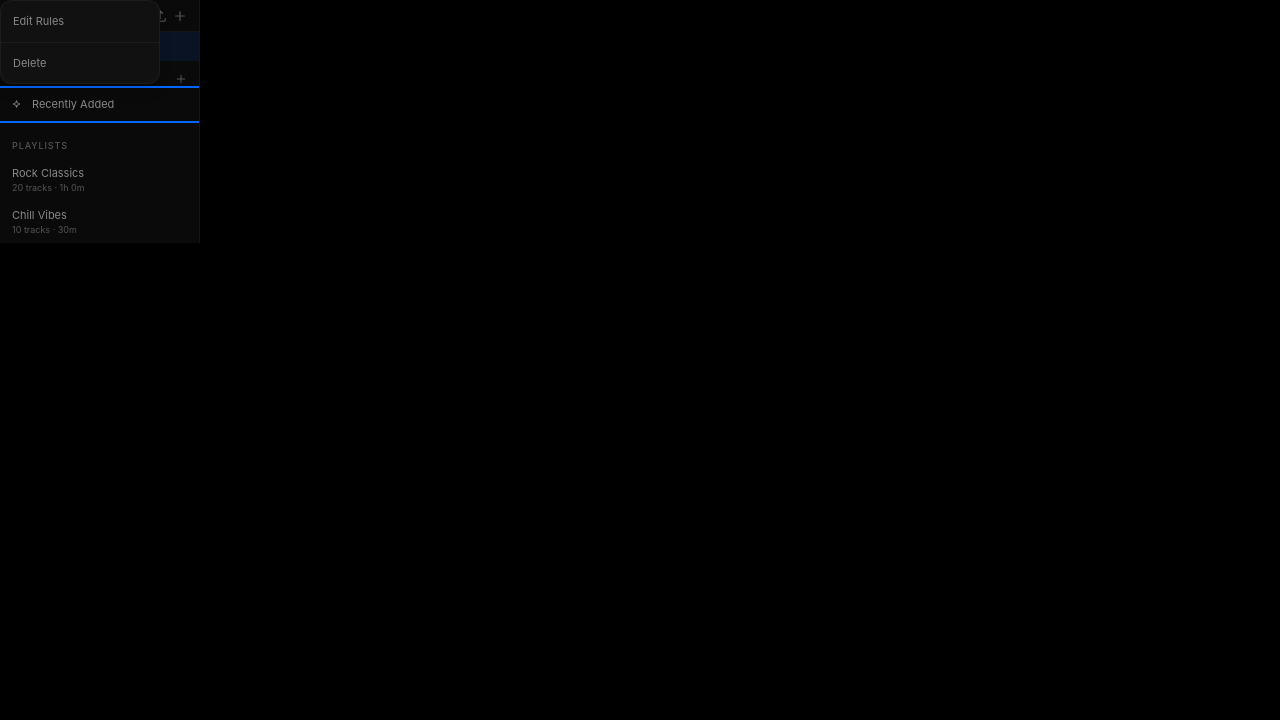
Test case: PlaylistSidebar › shows confirmation dialog when deleting a smart playlist
Click the button "Delete".
click(80, 63)  # box 1,46 -> 159,79
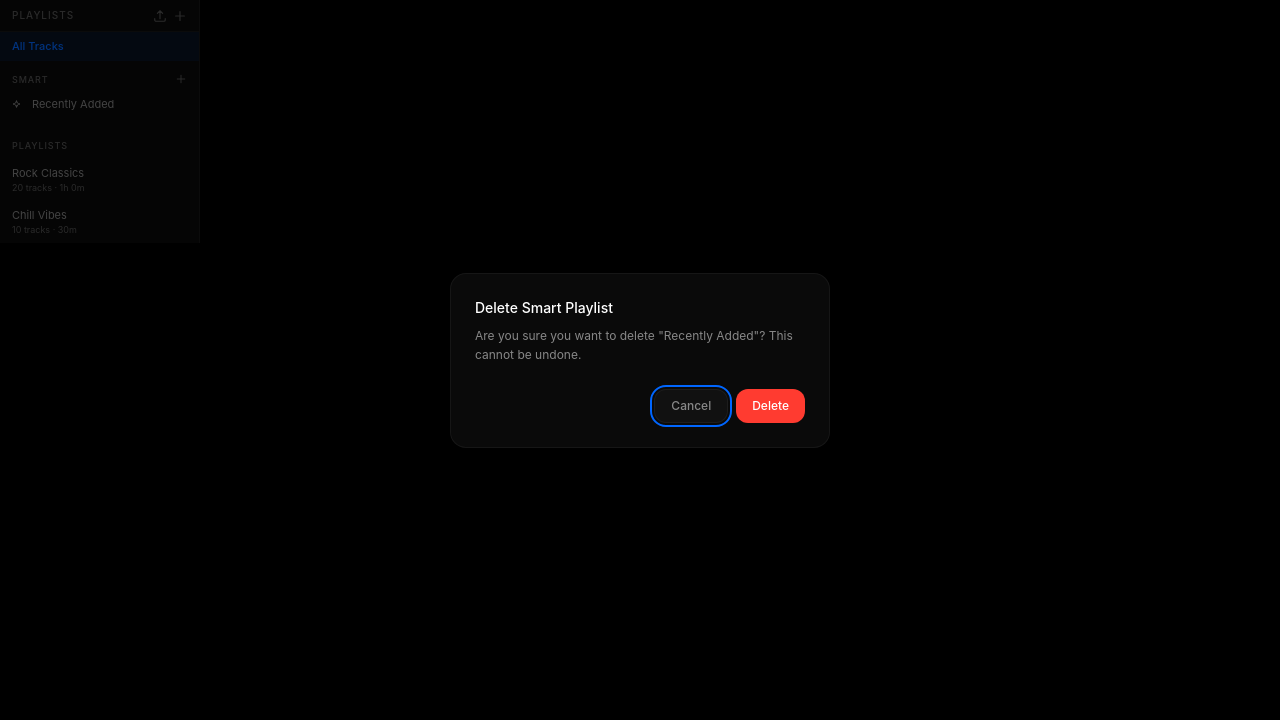
Check: the text "Delete Smart Playlist" is shown, box 475,298 -> 613,316
Check: the text "Are you sure you want to delete \"Recently Added\"" is shown, box 475,328 -> 793,362
